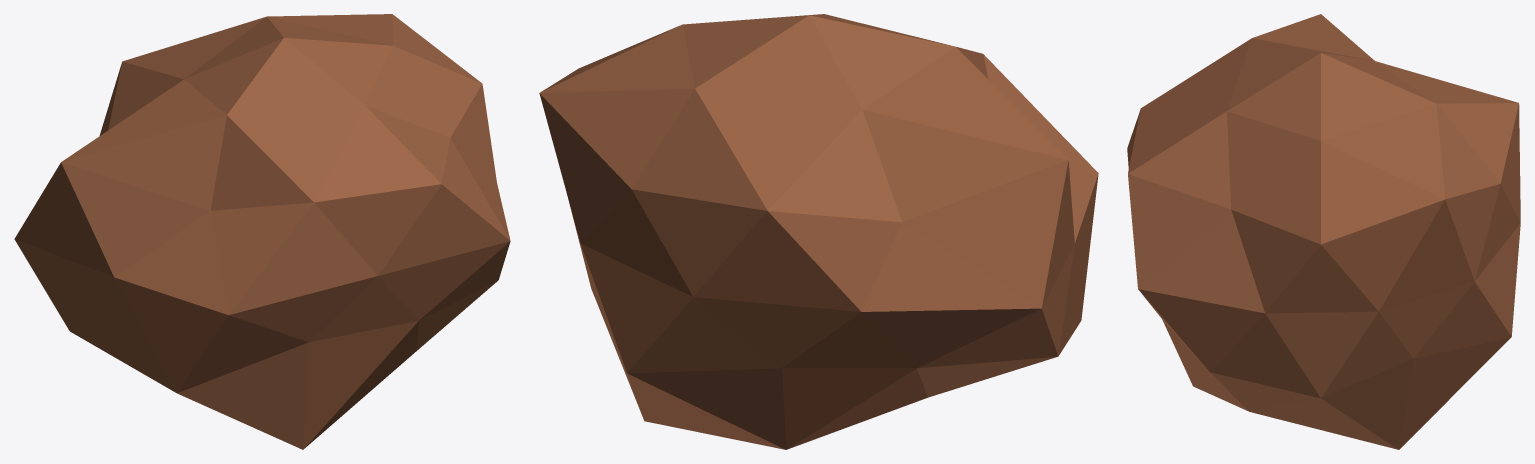
Rendered from mars_boulder_round.glb.
3 views of the same model, side by side, from view 1: azimuth 30°, elevation 25°; view 2: azimuth 150°, elevation 25°; view 3: azimuth 270°, elevation 25° (orthographic). The views are drawn at different scales.
Visible parts, largest first — view 1: BoulderRound; view 2: BoulderRound; view 3: BoulderRound.
Part boxes in pixels (left/top/right/bottom): BoulderRound: left=14, top=14, right=510, bottom=449; BoulderRound: left=539, top=14, right=1098, bottom=449; BoulderRound: left=1127, top=14, right=1520, bottom=449.
Size of the model in its own units: 2.39 by 1.86 by 1.87.
